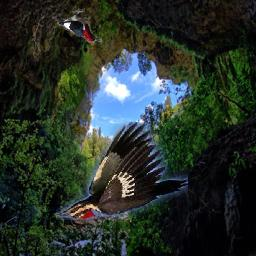Woodpecker: (56, 122, 188, 220), (52, 9, 102, 44)
